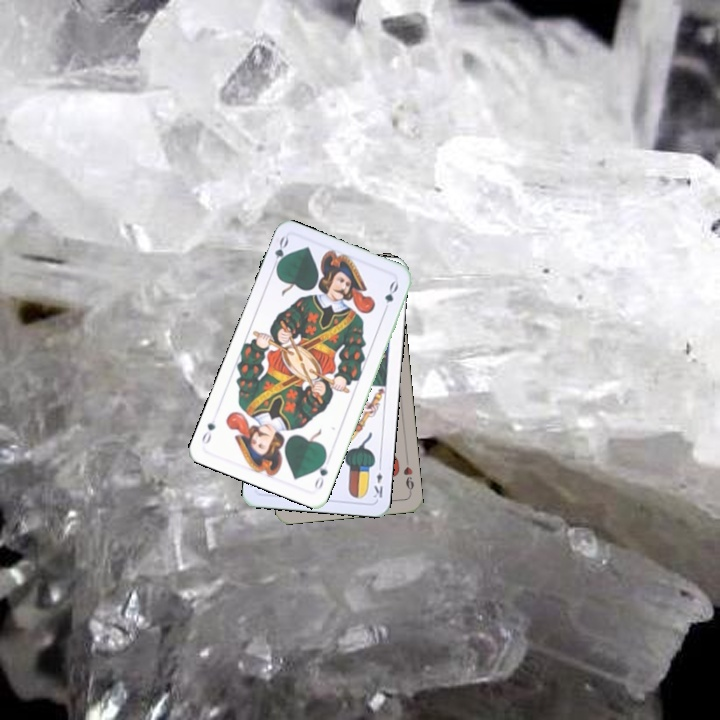EK: (370, 460, 385, 500)
GO: (268, 233, 291, 274), (310, 452, 331, 492)
H9: (399, 456, 416, 496)
